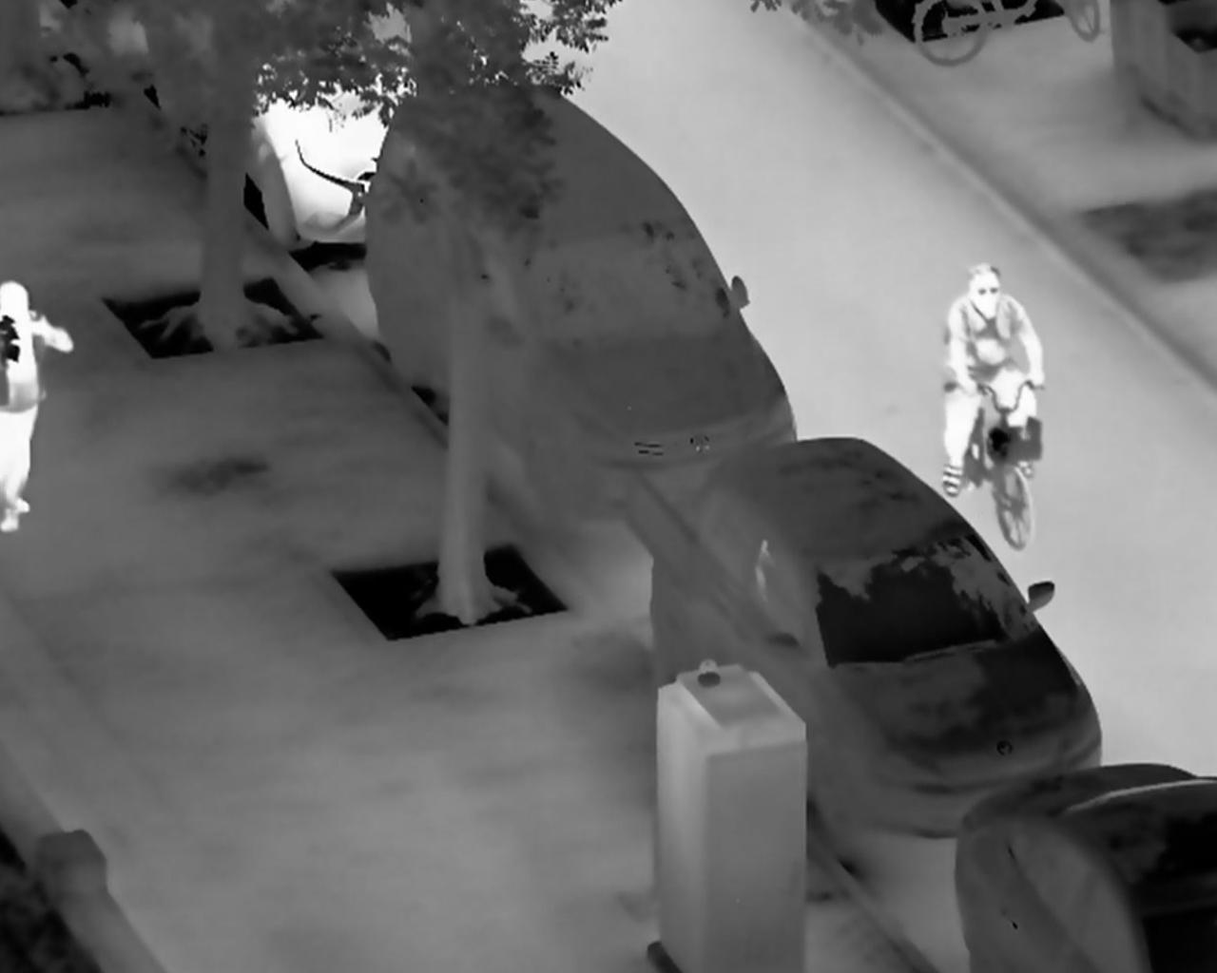person: (942, 263, 1048, 500)
